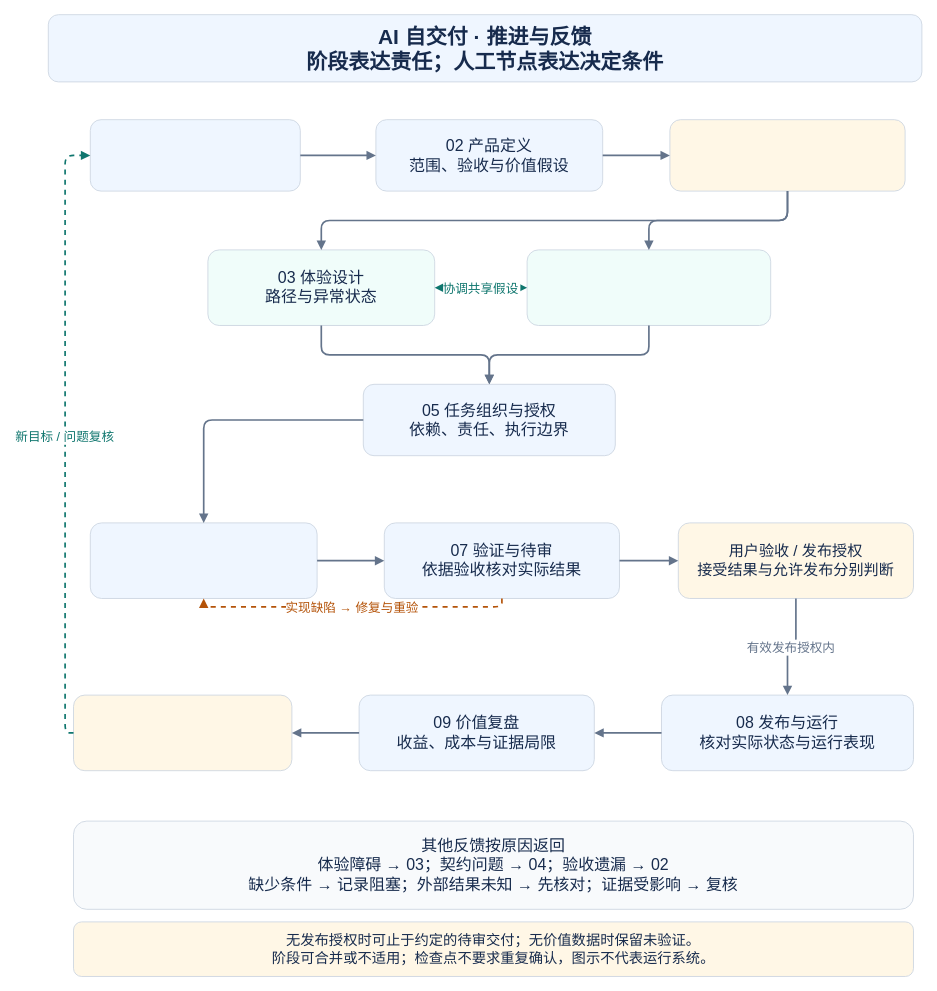
Some shapes in this 937 by 991 pixel diagram are drawn without their labels. The centre of each missing label's shape, as x and y in pixels:
"01 问题发现 对象、问题与假设" belongs at point 194,155.
"04 技术与数据设计 约束、契约与可行性" belongs at point 648,287.
"06 实现与集成 形成可定位的产物" belongs at point 203,560.
"目标 / 范围 / 验收决定 已有有效决定可以复用" belongs at point 787,155.
"继续 / 调整 / 停止 形成新决定或保留观察" belongs at point 182,732.
